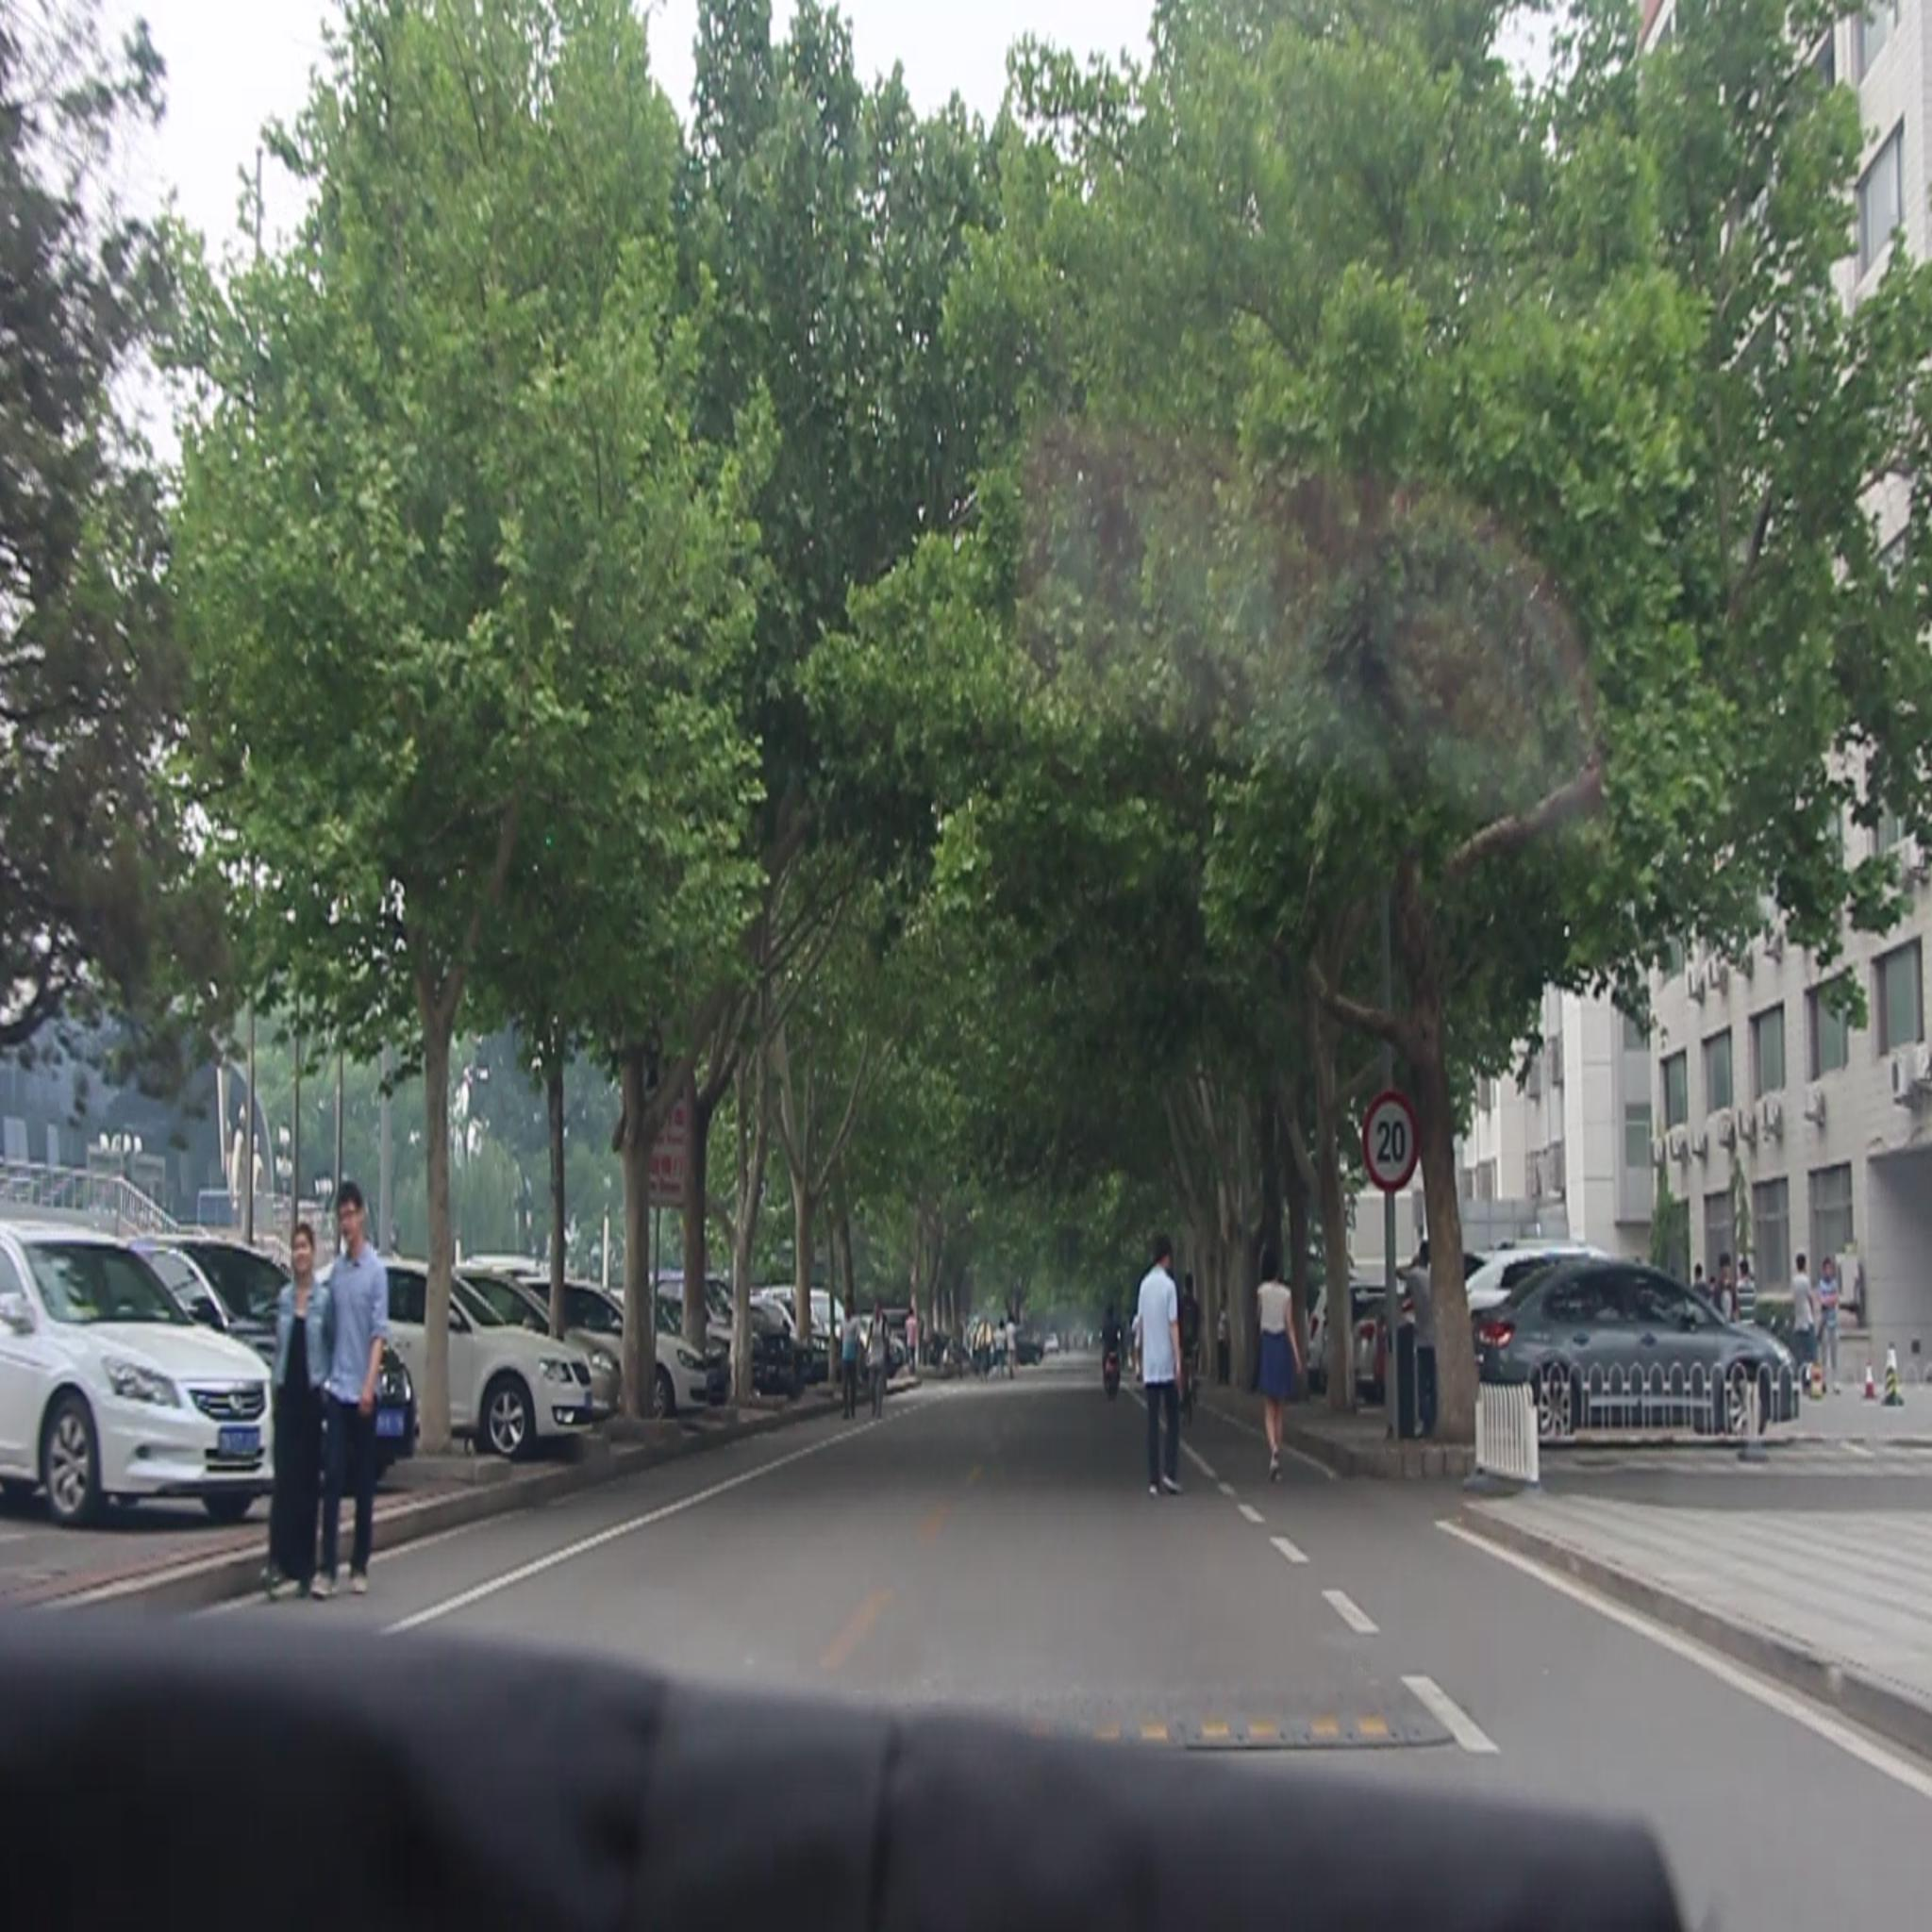pl20: (1366, 1099, 1422, 1194)
